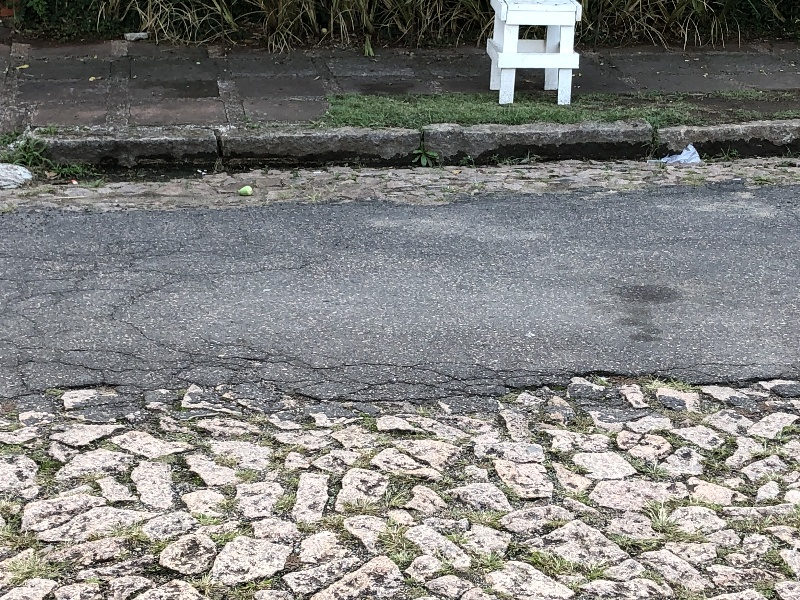v63: (30, 83, 800, 186)
